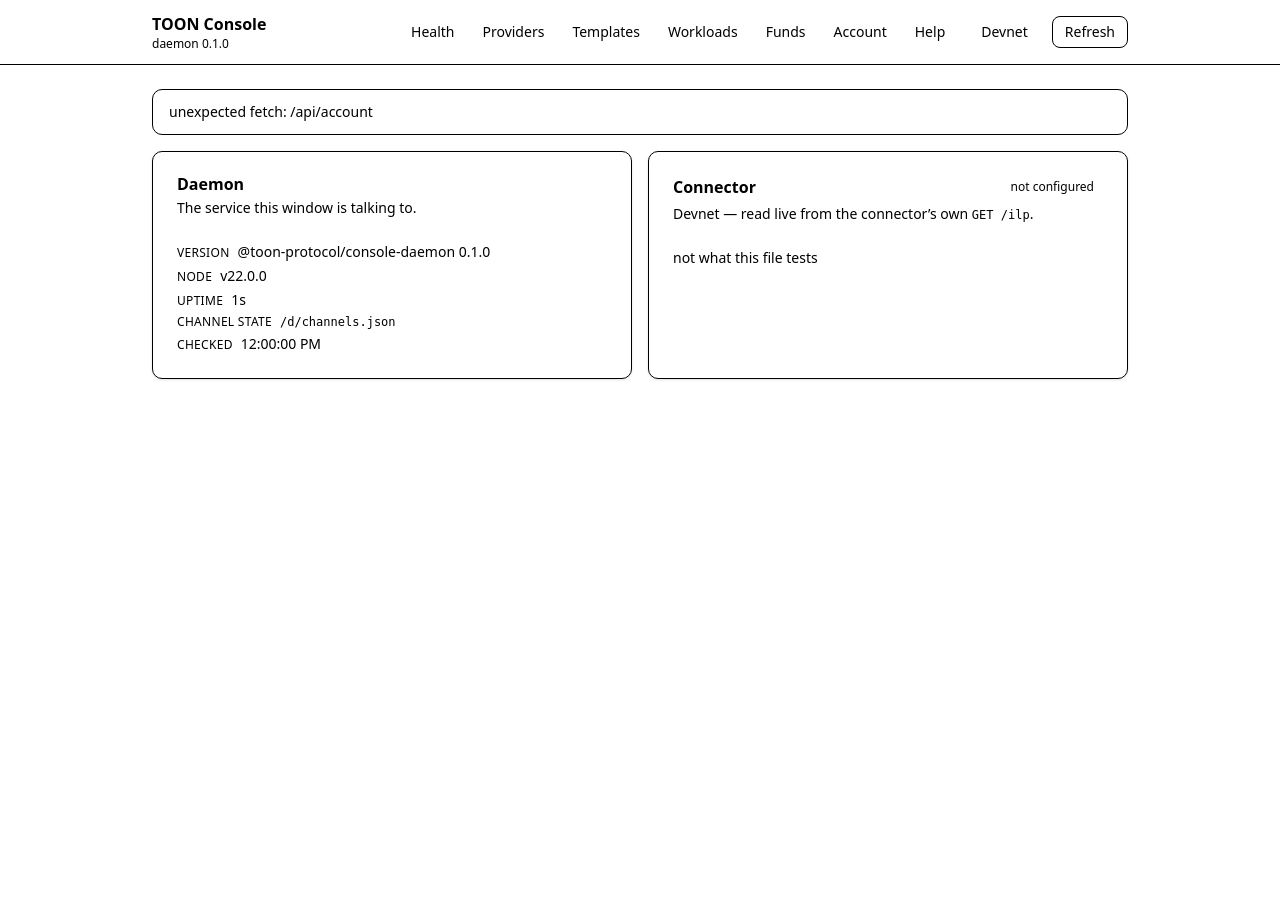
Test: browsing the Provider Directory › goes stale on its own, with no refresh and no new event
Expected: the text "daemon 0.1.0" is shown, [152,35,229,52]
What coordinates should you click on to do the following:
click the button "Providers"
I would click on:
 (513, 32)
Its box is [470,16,556,48].
Wait 61000 ms
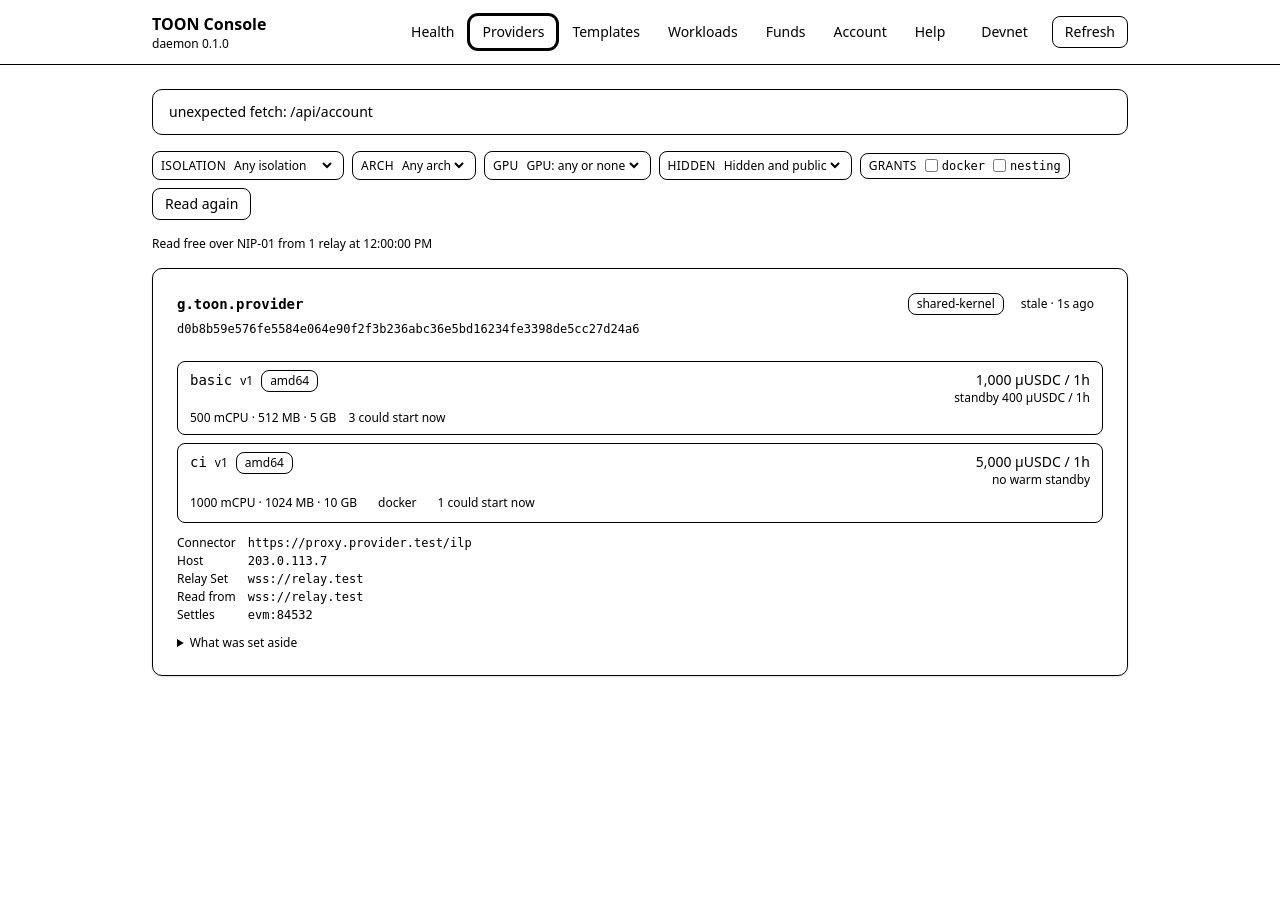
Expected: the text "g.toon.provider" is shown, [177,294,303,314]
Expected: the text "stale · 1s ago" is shown, [1021,295,1094,312]
